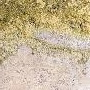Corrosion: (1, 1, 90, 65)
